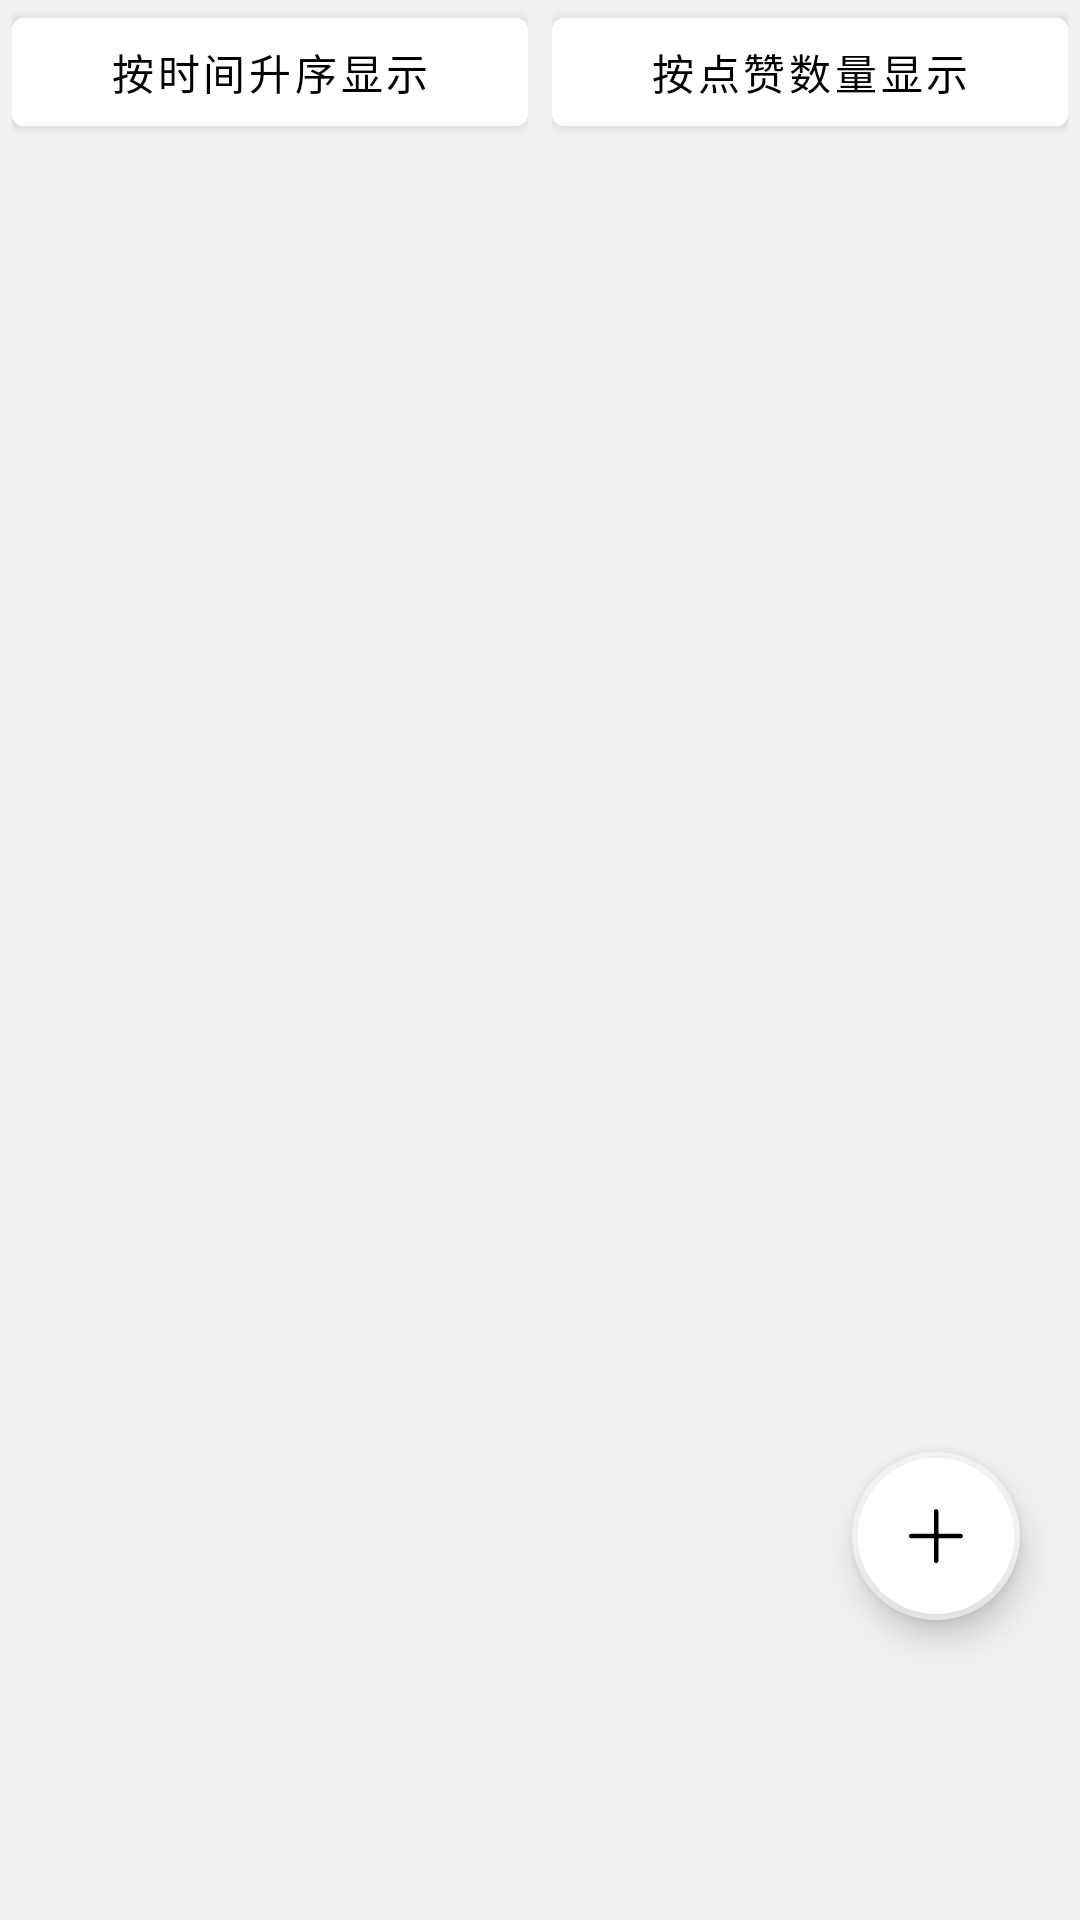

Icon click points for this 1080 x 1920 phone screenshot, format (x,y):
add: (936,1539)
